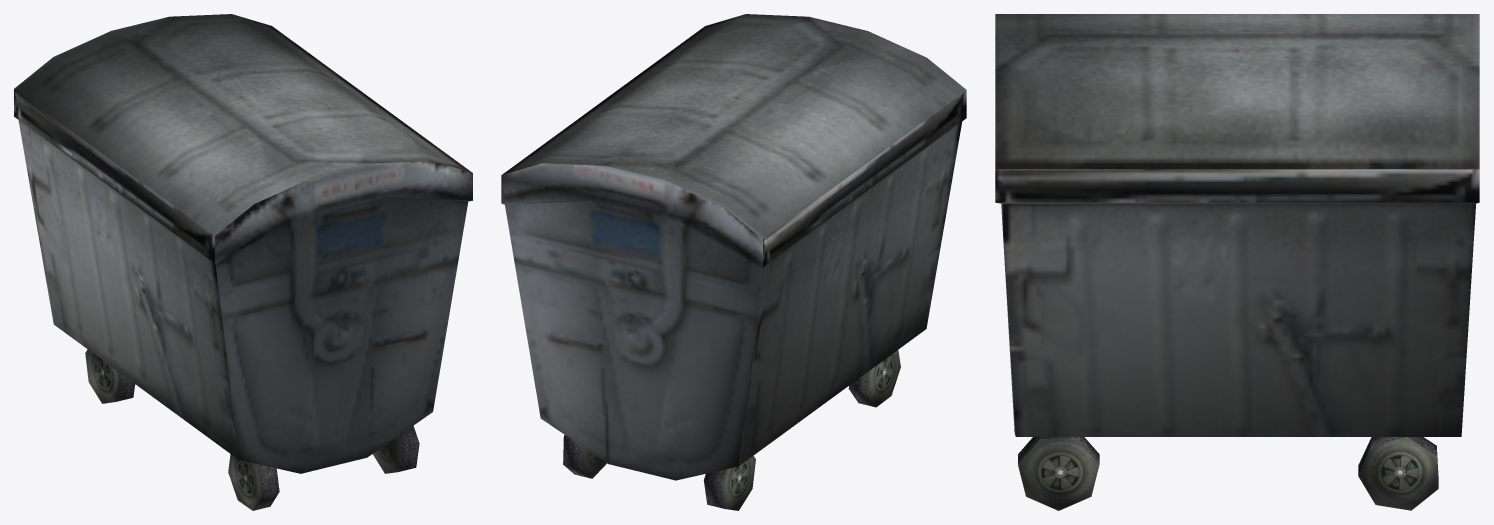
The model's file is PFB-Street-Decor-Pack-02-Litter-Container-Metal.fbx.
3 renders of one model, left to right at view 1: azimuth 30°, elevation 25°; view 2: azimuth 150°, elevation 25°; view 3: azimuth 270°, elevation 25°, orthographic. The views are drawn at different scales.
Visible parts, largest first — view 1: Litter-Container-Metal; view 2: Litter-Container-Metal; view 3: Litter-Container-Metal.
Part boxes in pixels (<box>): Litter-Container-Metal: <box>14,14,472,510</box>; Litter-Container-Metal: <box>501,14,966,510</box>; Litter-Container-Metal: <box>995,14,1479,510</box>.
Bounding box in the file's own units: 14 × 17.6 × 18.89.
